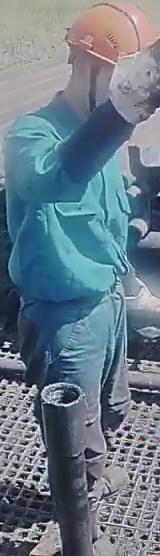gloves: (108, 38, 160, 128), (122, 278, 160, 325)
helmet: (59, 1, 160, 69)
vest: (6, 107, 133, 313)
